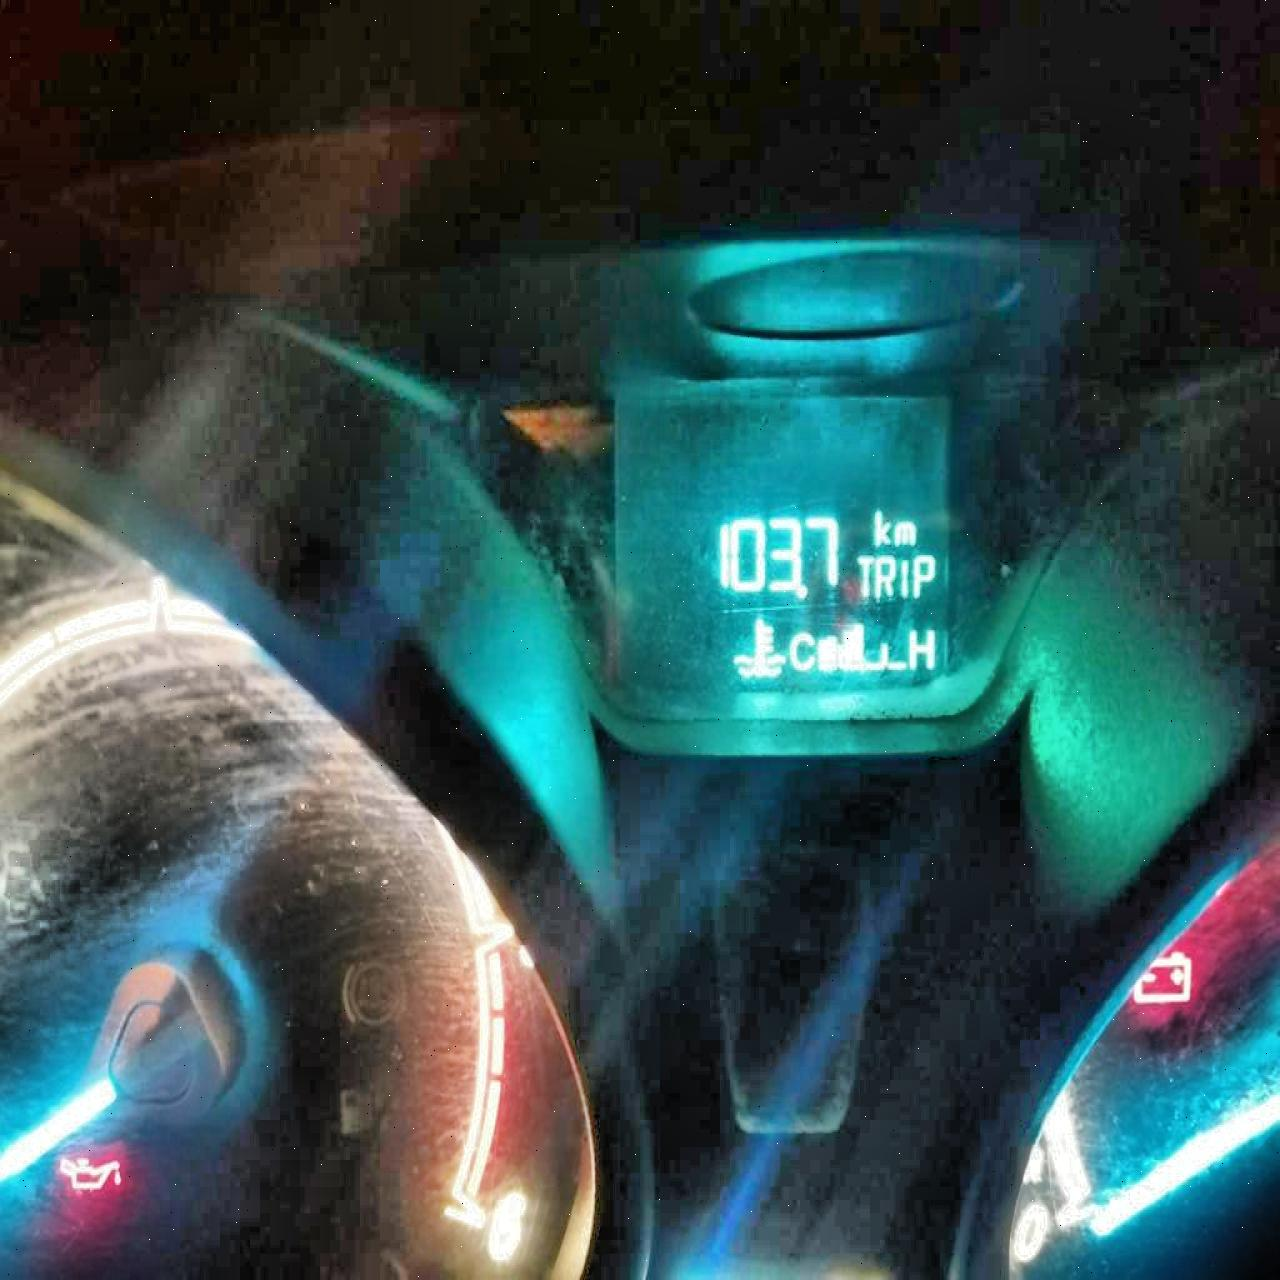-: (795, 584, 806, 599)
0: (729, 516, 765, 592)
1: (715, 517, 729, 588)
3: (767, 515, 802, 590)
7: (803, 513, 838, 585)
X: (906, 627, 935, 670), (787, 628, 815, 672), (911, 552, 935, 598), (874, 553, 896, 599), (855, 553, 874, 597), (871, 509, 890, 546), (892, 518, 917, 546), (898, 556, 908, 597)
odometer: (584, 368, 967, 747)
